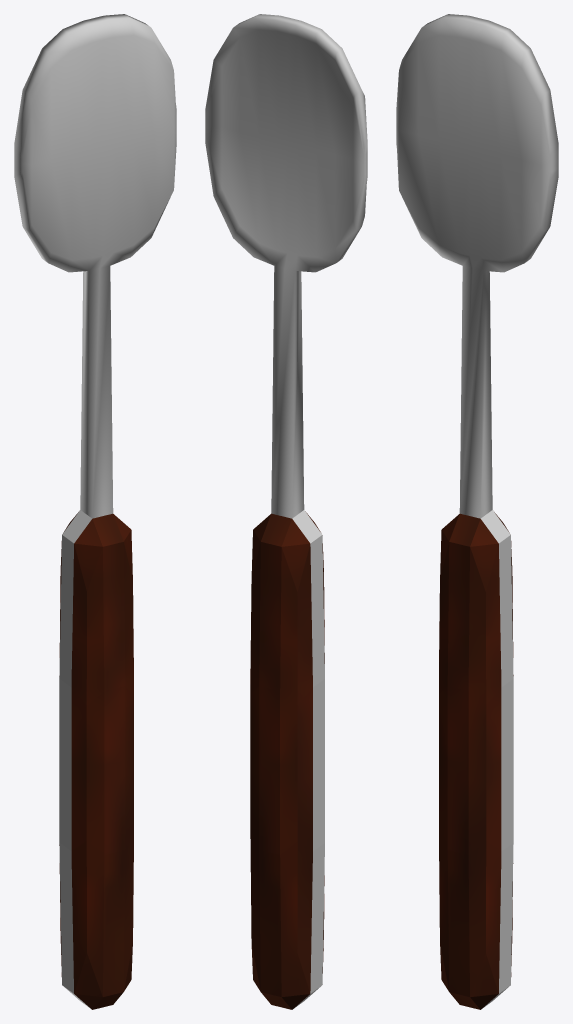
Rendered from spoon.fbx.
3 renders of one model, left to right at view 1: azimuth 30°, elevation 25°; view 2: azimuth 150°, elevation 25°; view 3: azimuth 330°, elevation 25°, orthographic.
Parts seen in each view (by area): view 1: Cube; view 2: Cube; view 3: Cube.
Part boxes in pixels (bbox=[...]): Cube: bbox=[14, 14, 176, 1009]; Cube: bbox=[205, 14, 367, 1009]; Cube: bbox=[396, 14, 558, 1009].
Bounding box in the file's own units: 0.0507 × 0.3 × 0.02.
